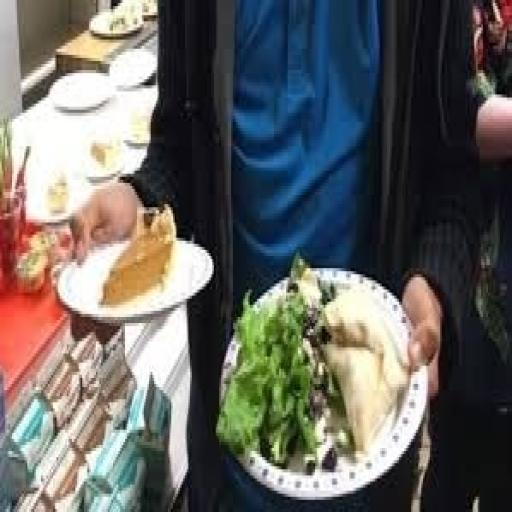eating: (67, 0, 507, 506)
